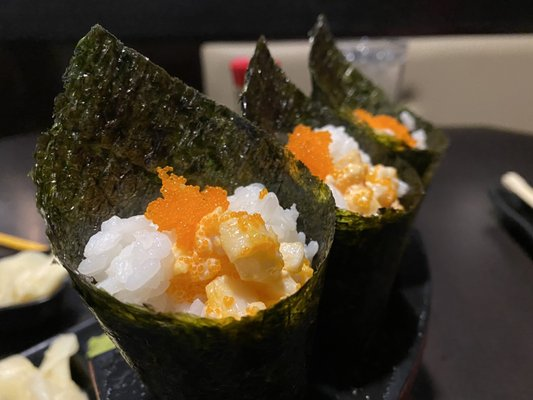curry: (29, 21, 339, 381)
